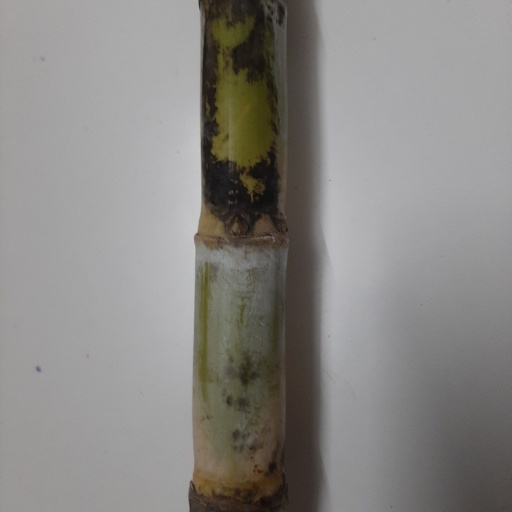Bud: (230, 215, 249, 239)
